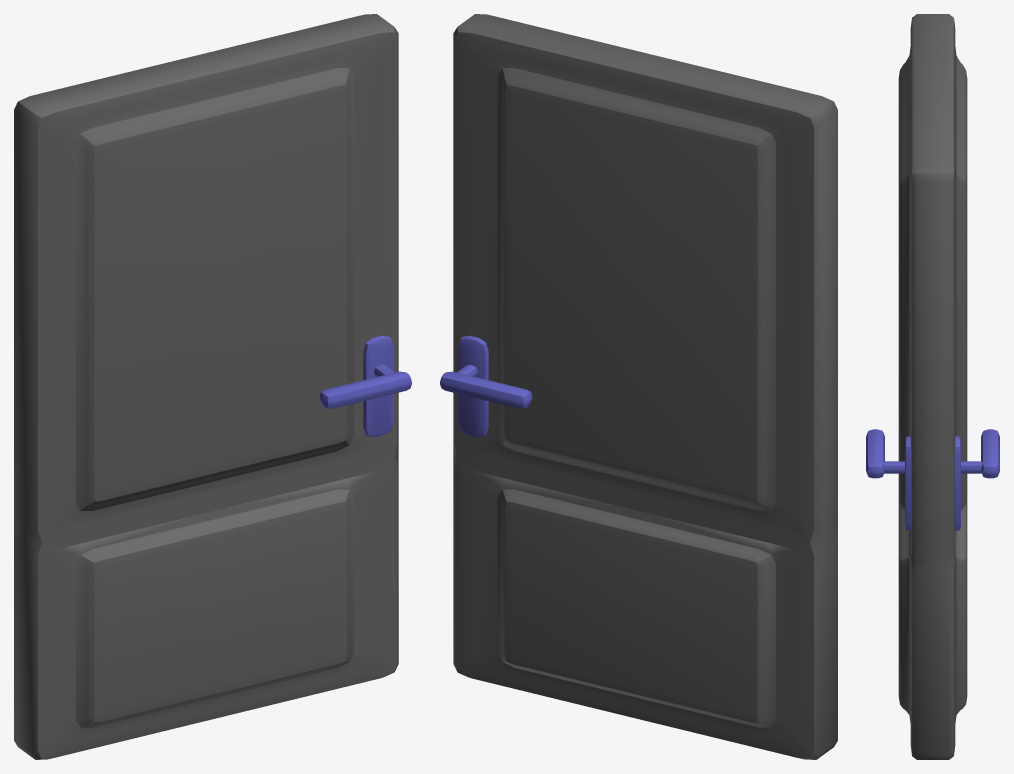
The model's file is SM_door_03.fbx.
3 renders of one model, left to right at view 1: azimuth 30°, elevation 25°; view 2: azimuth 150°, elevation 25°; view 3: azimuth 270°, elevation 25°, orthographic. The views are drawn at different scales.
Parts seen in each view (by area): view 1: Box370; view 2: Box370; view 3: Box370.
Boxes of the visible parts, x1,y1,x2,y2 form: Box370: (14, 14, 411, 759); Box370: (440, 14, 837, 759); Box370: (866, 14, 999, 759).
Bounding box in the file's own units: 46.48 × 78.74 × 16.14.
